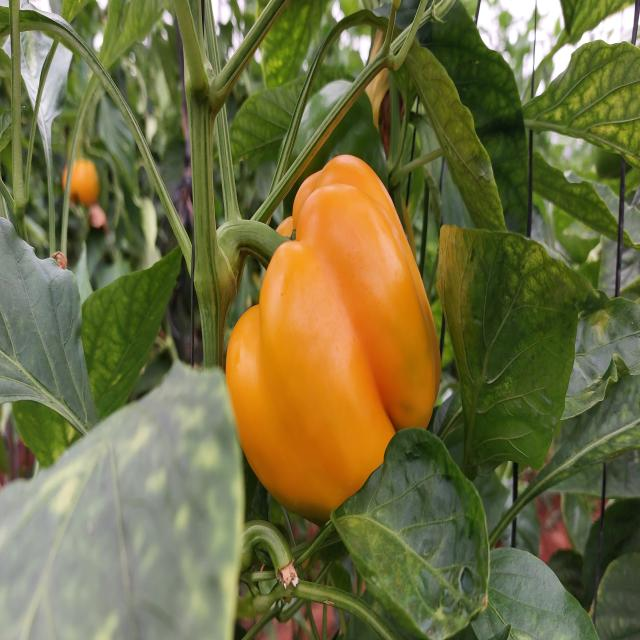Yellow-Ready-to-Harvest: (220, 162, 460, 516)
